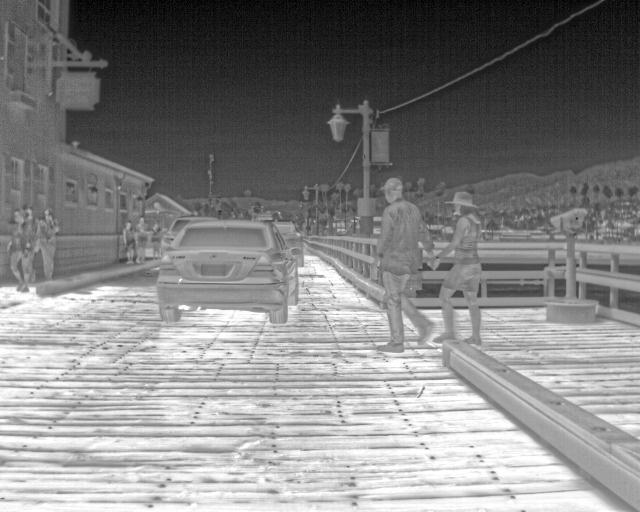bicycle: (155, 218, 299, 324), (156, 213, 198, 261), (274, 220, 302, 263)
empty: (369, 175, 438, 350), (434, 187, 484, 343), (3, 206, 33, 290), (32, 210, 58, 280), (120, 219, 135, 267), (136, 219, 148, 262)
